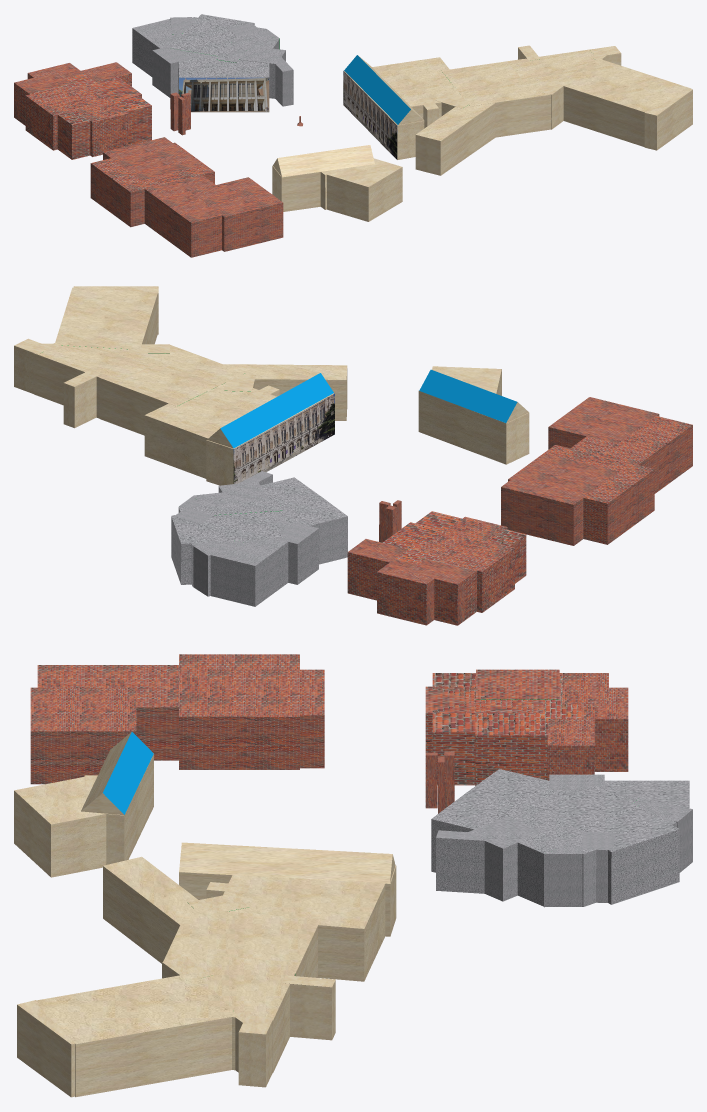
File: Red Square.glb
3 renders of one model, top to bottom at view 1: azimuth 30°, elevation 25°; view 2: azimuth 150°, elevation 25°; view 3: azimuth 270°, elevation 25°, orthographic. The views are drawn at different scales.
Size of the model in its own units: 0.4733 by 0.0417 by 0.3479.
8 materials, 6 textured.
